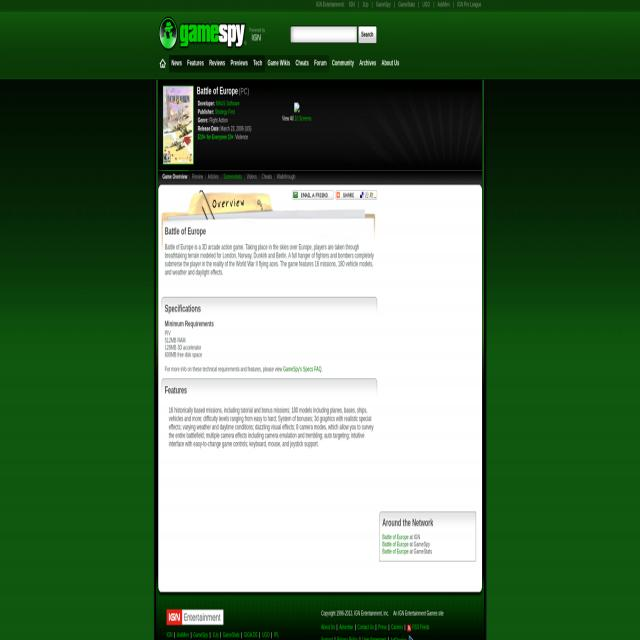button: (163, 86, 193, 164), (166, 609, 224, 625), (292, 190, 334, 200), (335, 190, 377, 200), (265, 57, 293, 70), (329, 57, 357, 70), (358, 26, 376, 44), (184, 57, 207, 70), (379, 57, 402, 70), (206, 57, 228, 70), (228, 57, 250, 70), (357, 57, 379, 70), (293, 57, 311, 70), (311, 57, 329, 70), (169, 57, 184, 70), (251, 57, 265, 70), (157, 57, 169, 70), (294, 102, 300, 112)
field: (290, 26, 356, 43)
